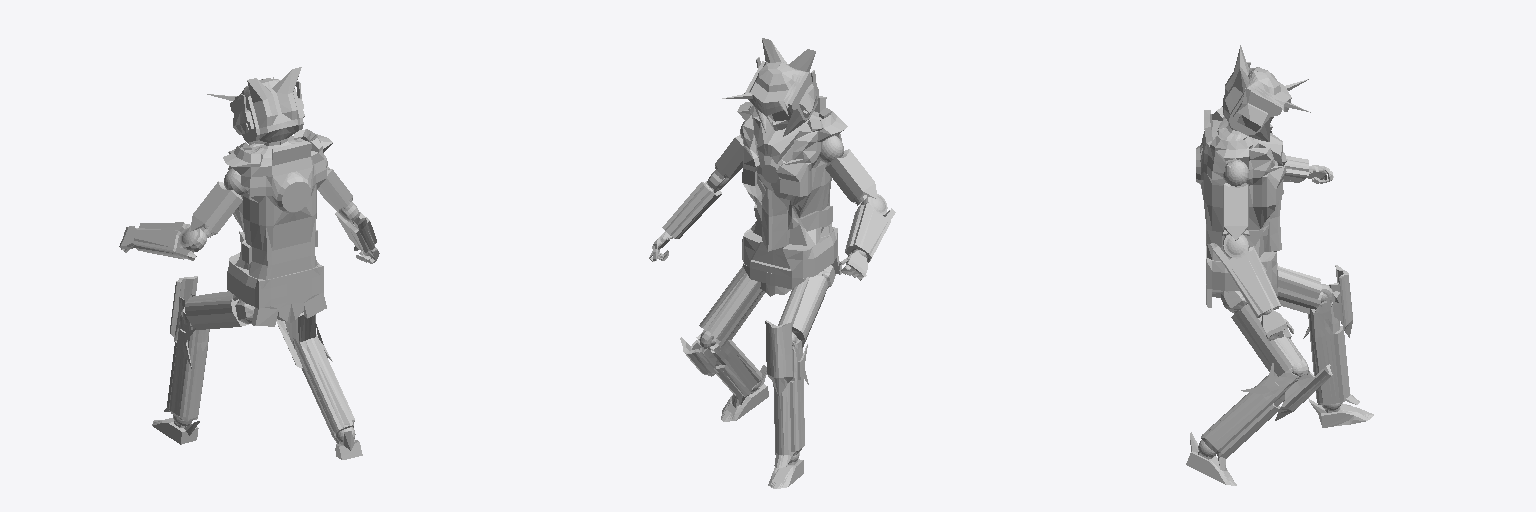
The model's file is air3.obj.
The picture shows the model from 3 angles: view 1: azimuth 30°, elevation 25°; view 2: azimuth 150°, elevation 25°; view 3: azimuth 270°, elevation 25°; orthographic projection.
Parts seen in each view (by area): view 1: Model_Cube; view 2: Model_Cube; view 3: Model_Cube.
Part boxes in pixels (left/top/right/bottom): Model_Cube: left=119, top=67, right=379, bottom=459; Model_Cube: left=649, top=38, right=895, bottom=488; Model_Cube: left=1186, top=45, right=1373, bottom=485.
Bounding box in the file's own units: 1.1 × 1.77 × 0.7642.